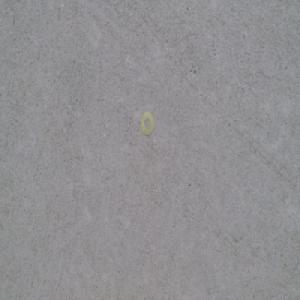Washer: (140, 111, 154, 138)
